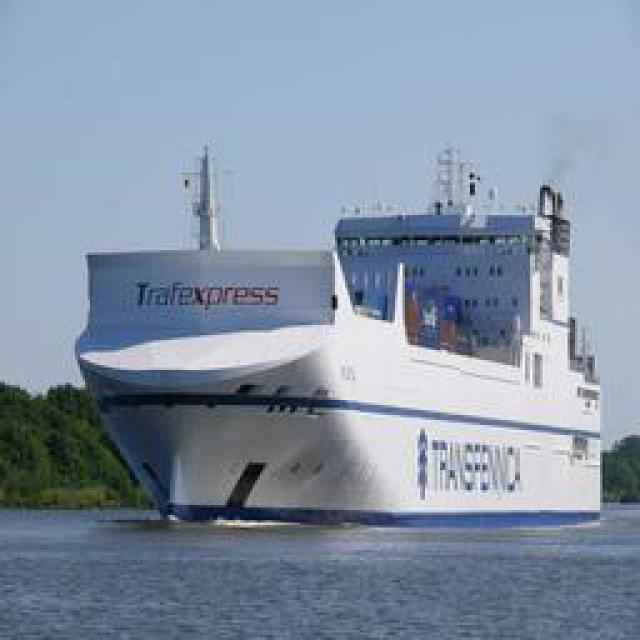Ship: (75, 170, 613, 523)
